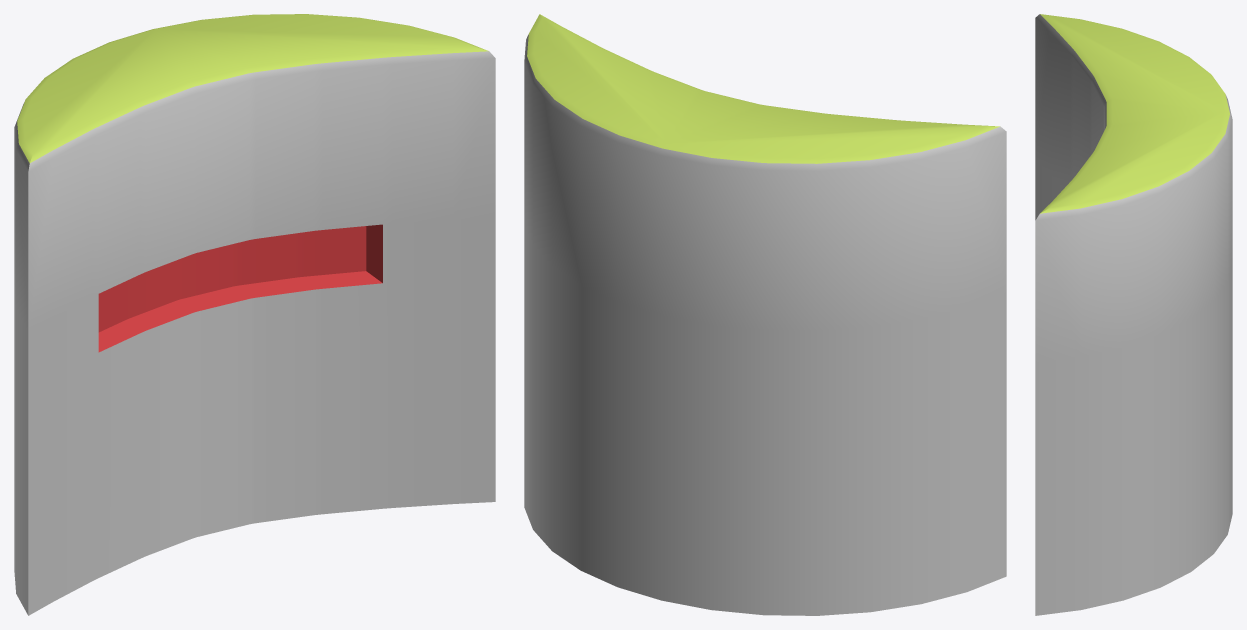
Rendered from moon_table.fbx.
The picture shows the model from 3 angles, left to right: view 1: azimuth 30°, elevation 25°; view 2: azimuth 150°, elevation 25°; view 3: azimuth 270°, elevation 25°; orthographic projection. The views are drawn at different scales.
Parts seen in each view (by area): view 1: Circle; view 2: Circle; view 3: Circle.
Part boxes in pixels (left/top/right/bottom): Circle: left=14, top=14, right=495, bottom=615; Circle: left=524, top=14, right=1006, bottom=615; Circle: left=1035, top=14, right=1232, bottom=615.
Bounding box in the file's own units: 196 × 181 × 80.49.
